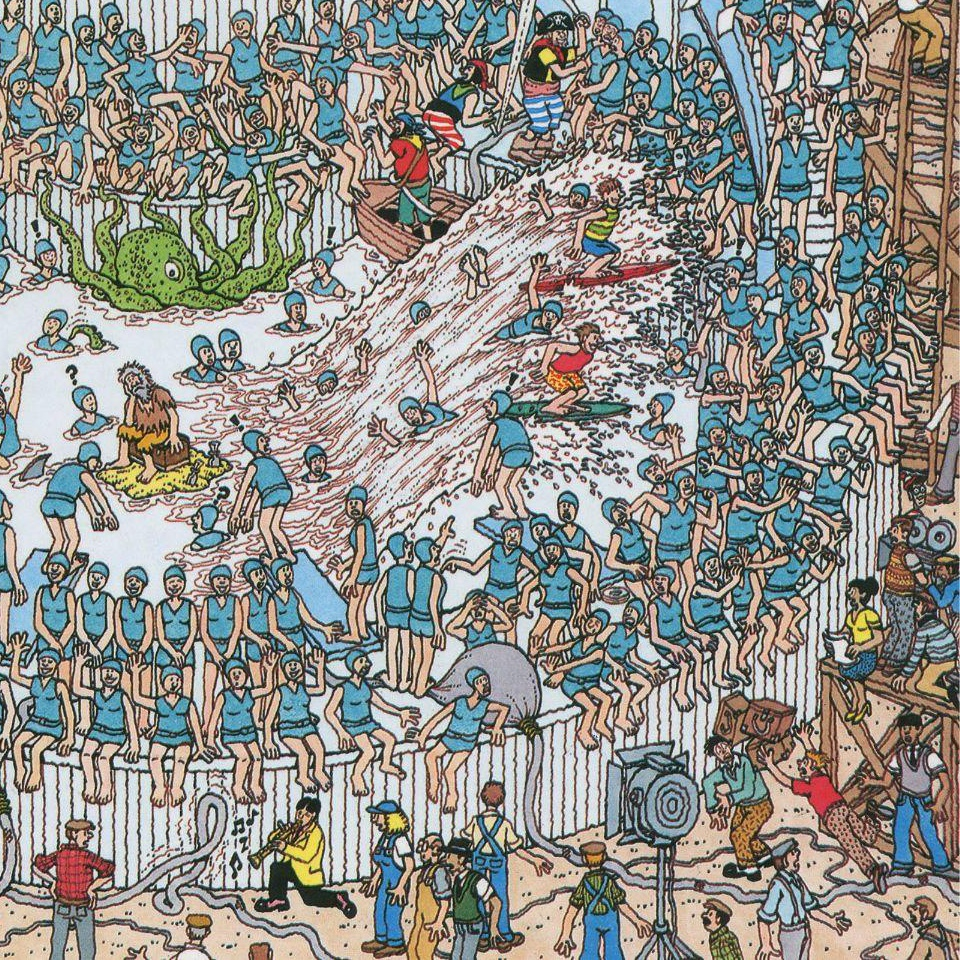waldo: (901, 471, 929, 511)
